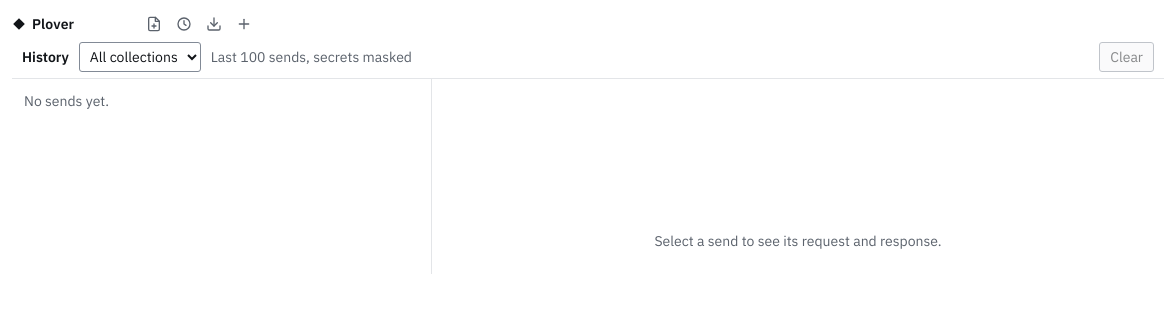
Test: history tab › list_shows_newest_first_with_collection_filter
Click the button named "History". click: [184, 24]
box: [172,12,196,36]
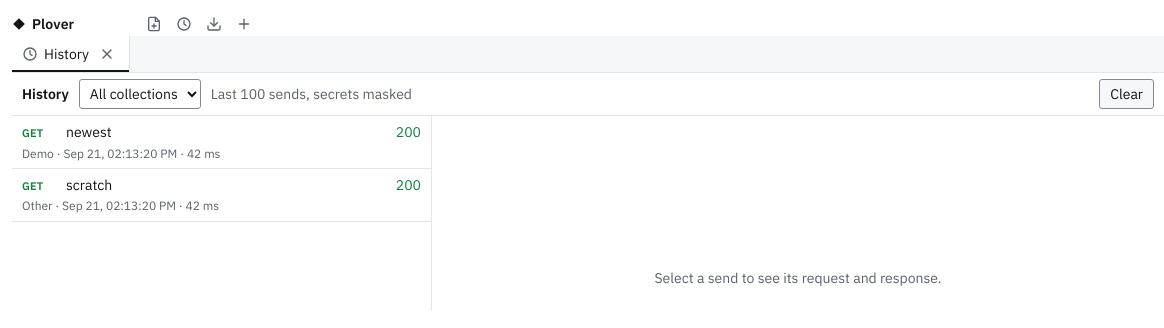
Select "Other" in the dropdown named "Collection". click: [140, 94]
box: [79,79,201,109]
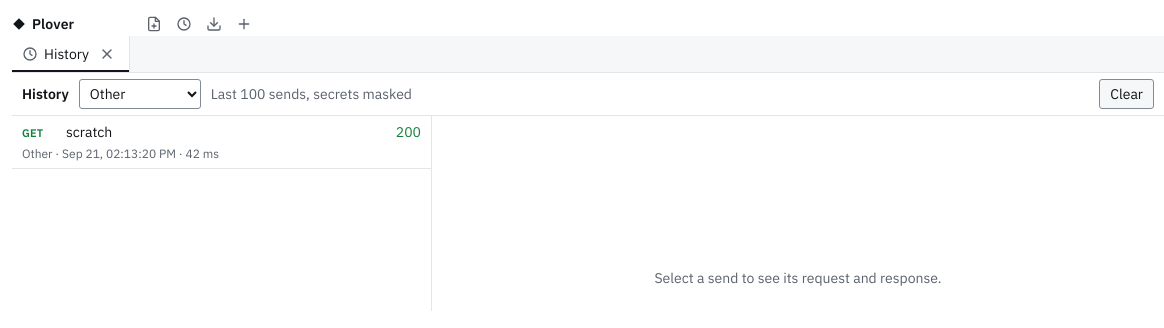
Result: the number of options is 1 at [12,116,431,169]
